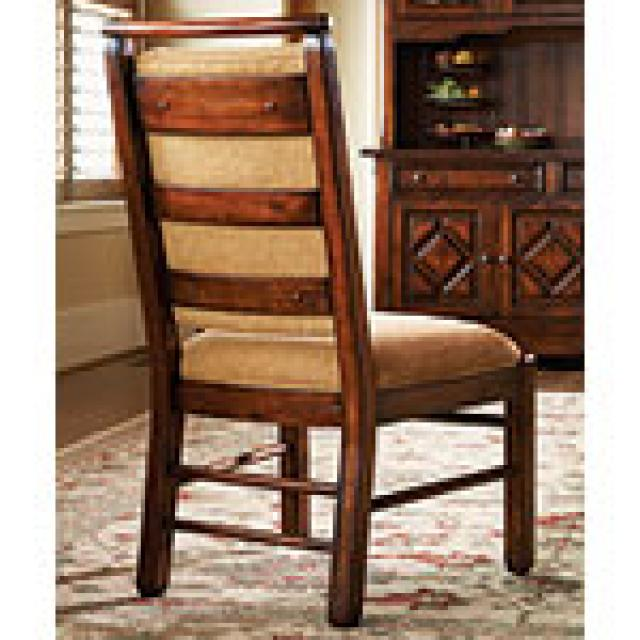chair: (102, 11, 536, 629)
